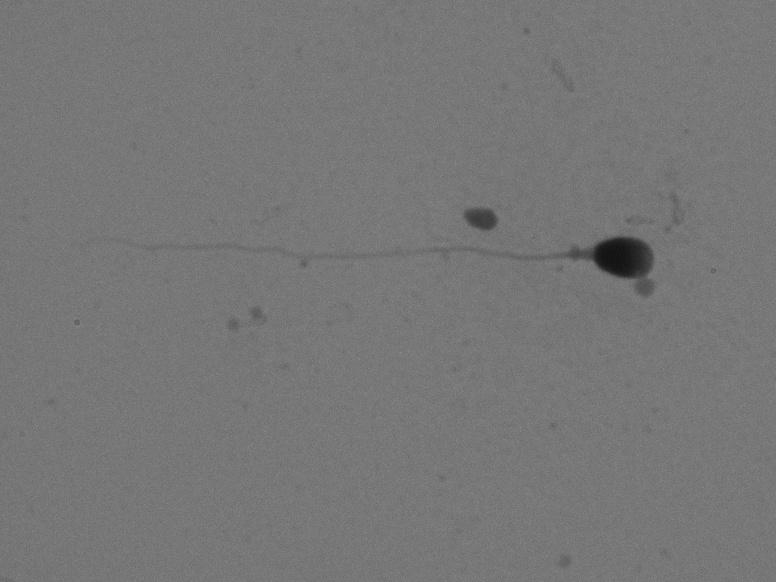Normal: (58, 235, 676, 289)
